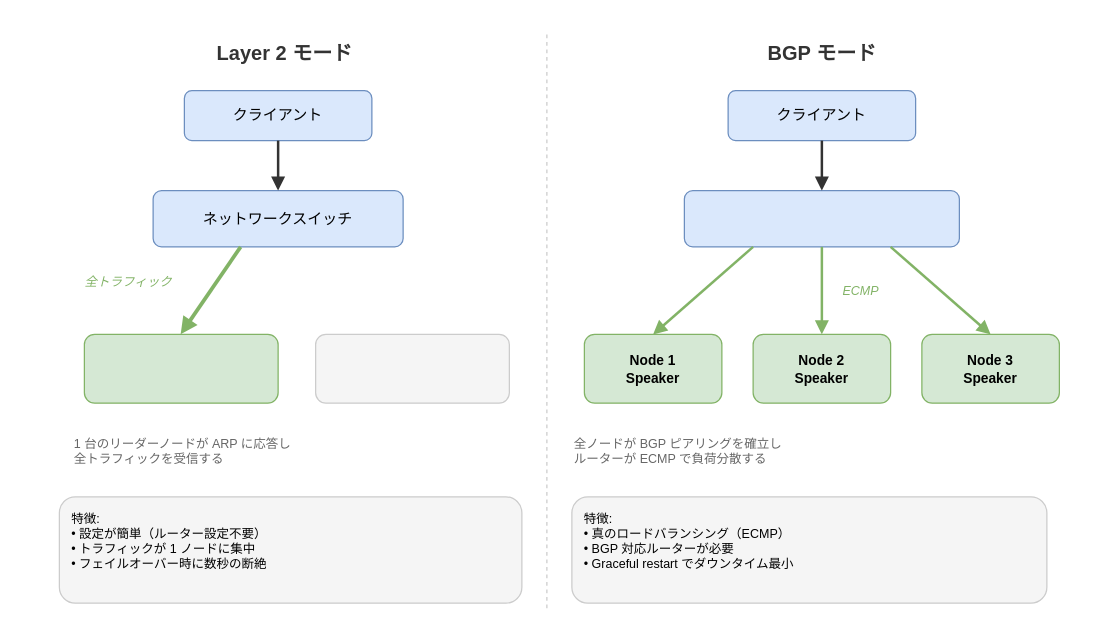
Some shapes in this 1093 by 643 pixel diagram are drawn without their labels. The box of each missing label's shape, as (x1, y1, x2, y2) in pixels:
BGP ルーター: (683, 189, 959, 247)
Node 1 (Leader ★) Speaker: (83, 333, 278, 403)
Node 2 (Standby) Speaker: (314, 333, 509, 403)
